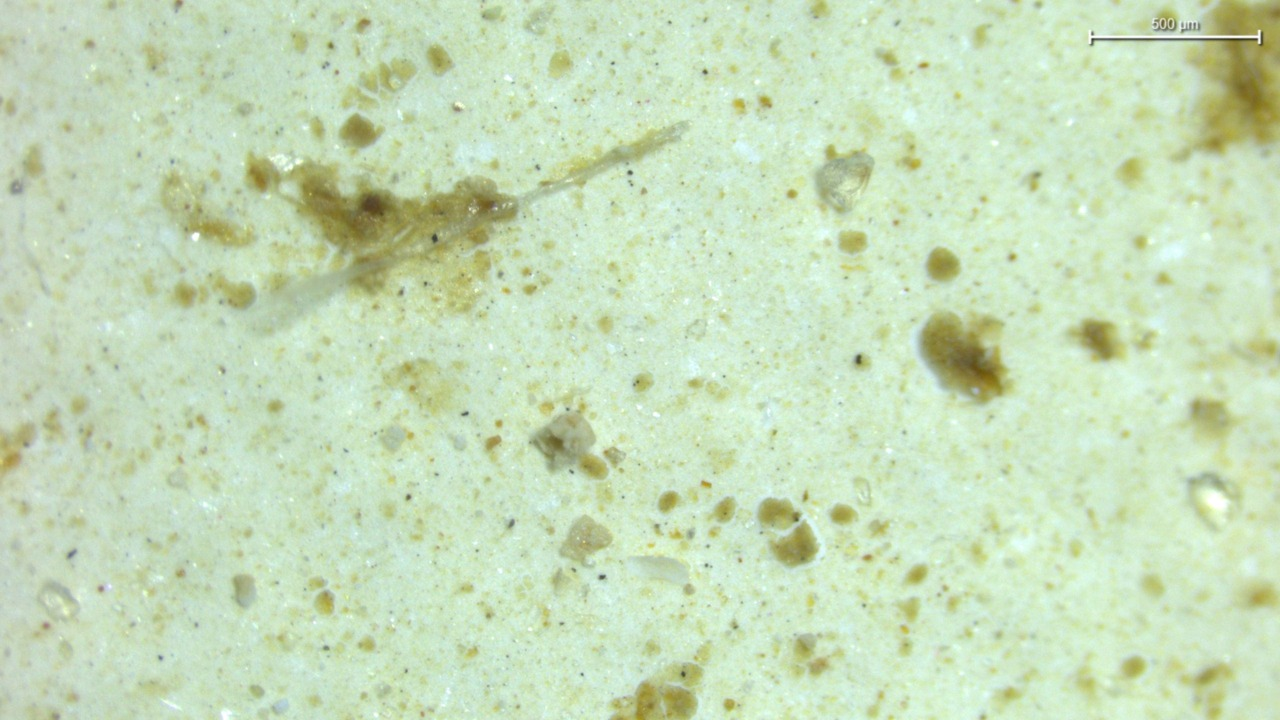microplastic_fragment: (531, 411, 608, 478), (815, 152, 874, 212)
